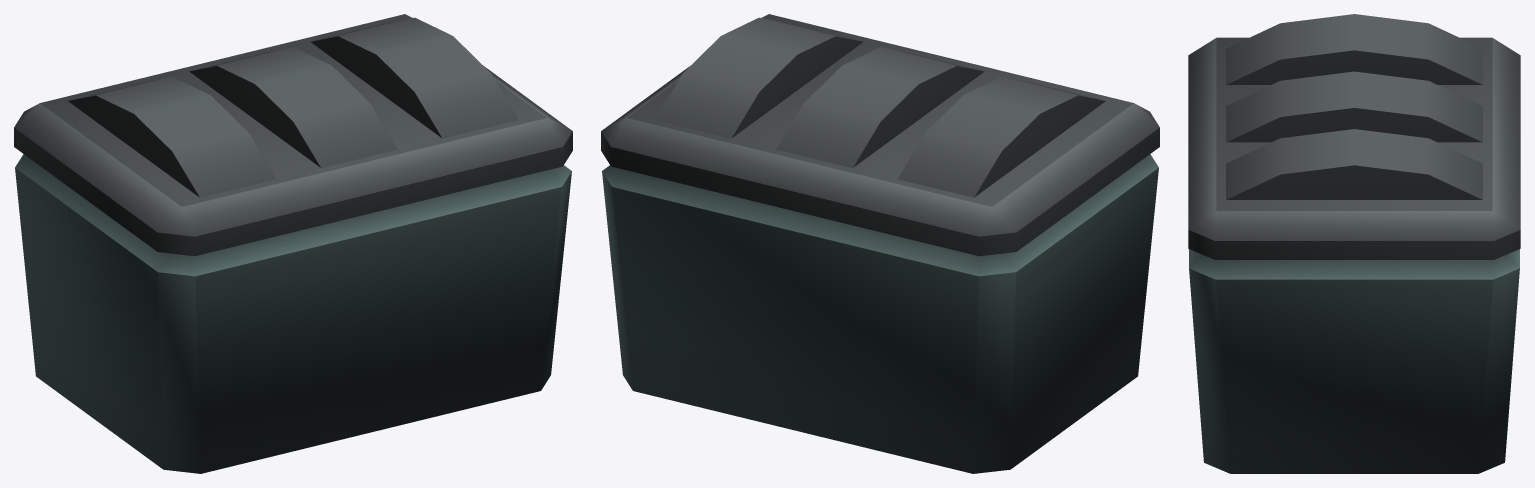
The model's file is Trash_Container_1A.fbx.
The picture shows the model from 3 angles, left to right: view 1: azimuth 30°, elevation 25°; view 2: azimuth 150°, elevation 25°; view 3: azimuth 270°, elevation 25°; orthographic projection. The views are drawn at different scales.
Parts seen in each view (by area): view 1: Trash_Container_1A; view 2: Trash_Container_1A; view 3: Trash_Container_1A.
Part boxes in pixels (x1,y1,x2,y2): Trash_Container_1A: (14, 14, 572, 473); Trash_Container_1A: (601, 14, 1159, 473); Trash_Container_1A: (1188, 14, 1520, 473).
Size of the model in its own units: 279 by 193 by 199.
